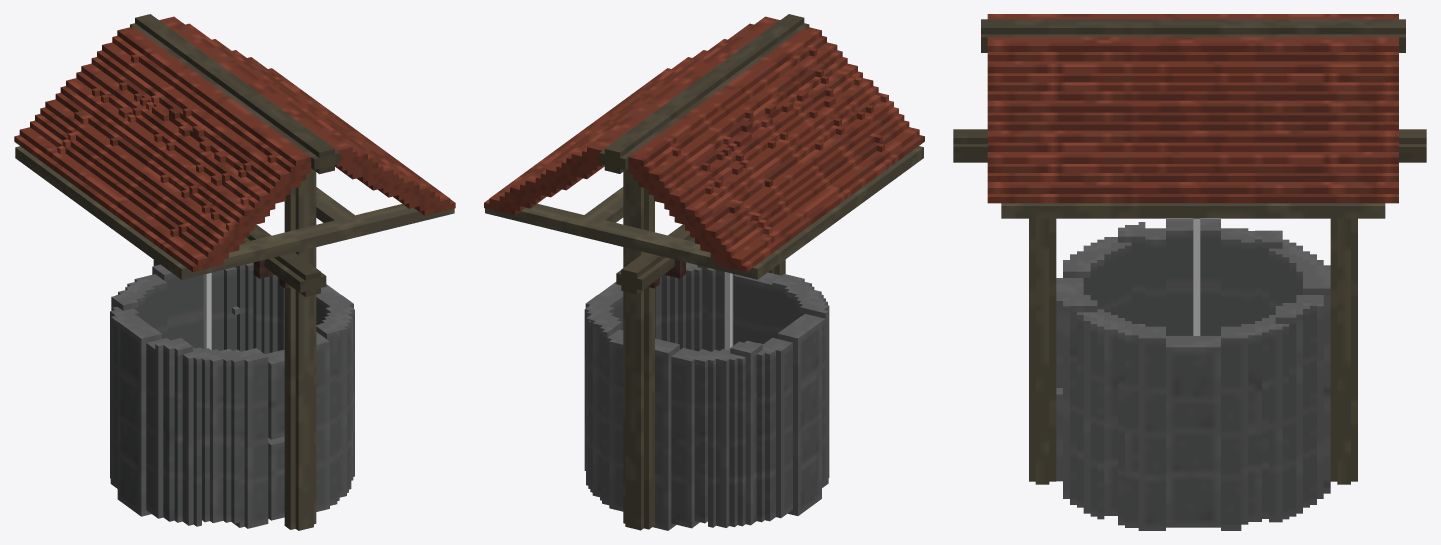
The model's file is well.fbx.
The picture shows the model from 3 angles, left to right: view 1: azimuth 30°, elevation 25°; view 2: azimuth 150°, elevation 25°; view 3: azimuth 270°, elevation 25°; orthographic projection. The views are drawn at different scales.
Visible parts, largest first — view 1: Union_5; view 2: Union_5; view 3: Union_5.
Boxes of the visible parts, x1,y1,x2,y2 form: Union_5: (14, 14, 455, 530); Union_5: (484, 14, 924, 530); Union_5: (953, 14, 1426, 530).
Bounding box in the file's own units: 53 × 74 × 69.
1 material, 1 textured.
